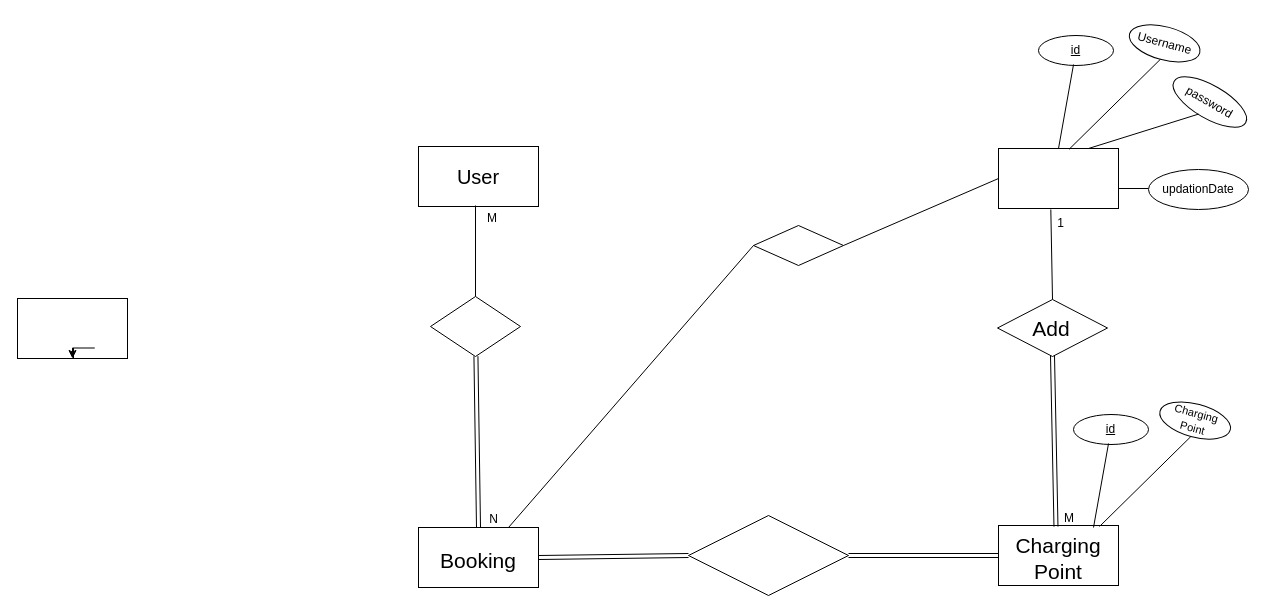
Some shapes in this 1272 by 613 pixel diagram are drawn without their labels. The shapes that lost their labels are listed below. From the top down, each one's centre as x and y in pixels, then its label:
At (x=1058, y=178): "Admin".
At (x=798, y=245): "manage".
At (x=72, y=328): "Enquiry".
At (x=475, y=326): "Do".
At (x=768, y=555): "Belongs To".
